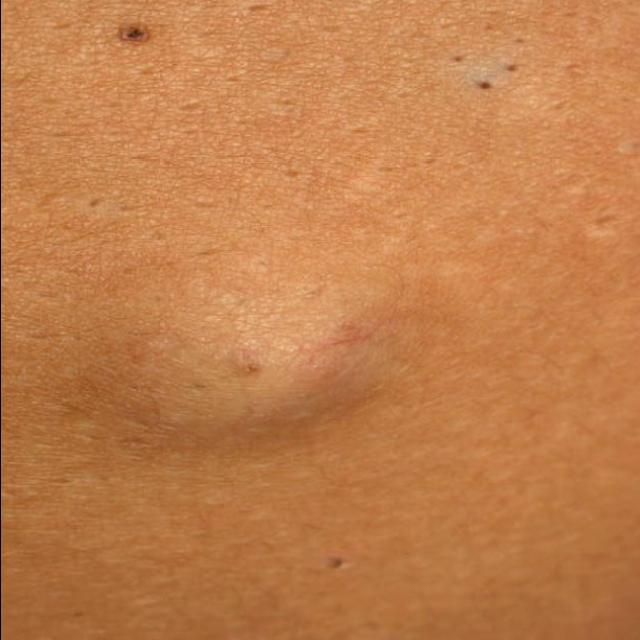nodule: (40, 237, 442, 483)
